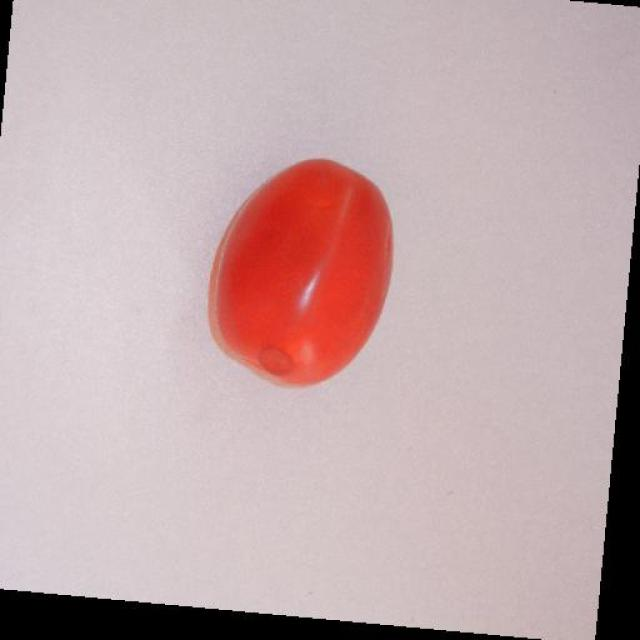Stale_tomato: (205, 137, 389, 405)
